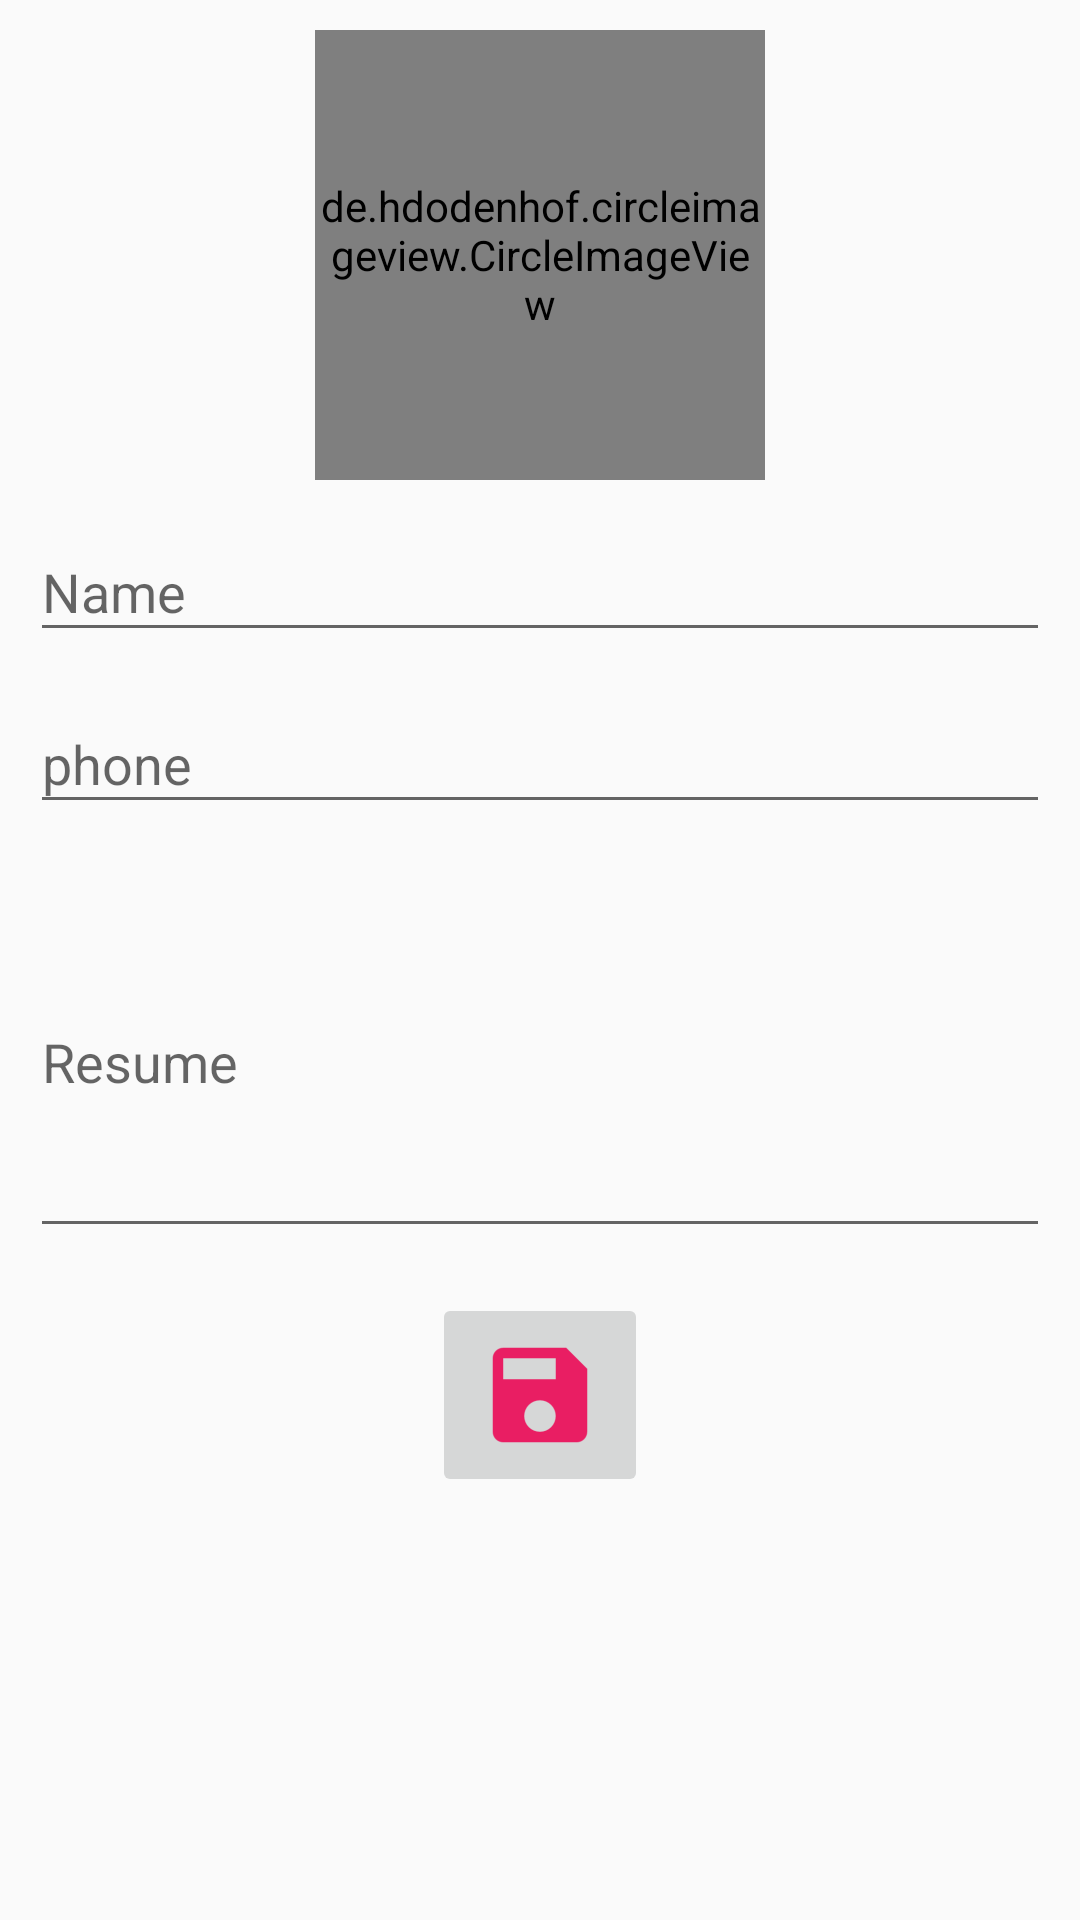

Where to tap for icons on this 1080*1920 app screen, as [x,y]:
save: [540,1395]
